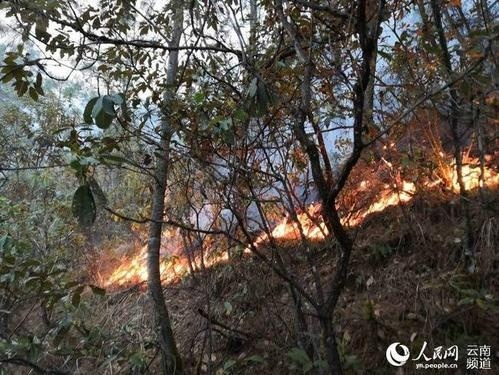fire: (94, 211, 231, 289)
